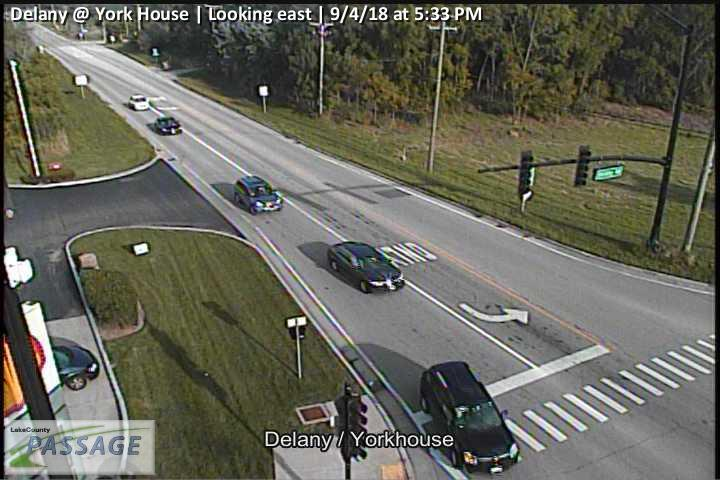SUV: (416, 360, 521, 476), (232, 174, 285, 216), (126, 93, 151, 112)
Sedan: (327, 240, 406, 295), (154, 116, 183, 136)
